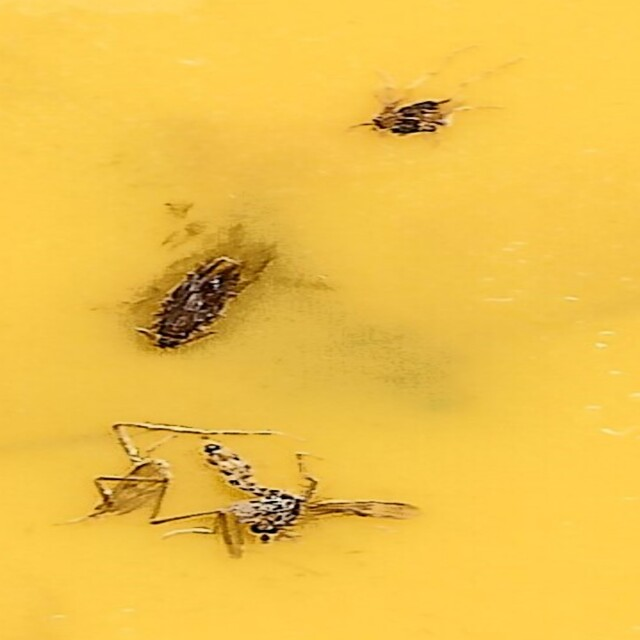Nematocera: (178, 435, 426, 550), (358, 90, 462, 141)
